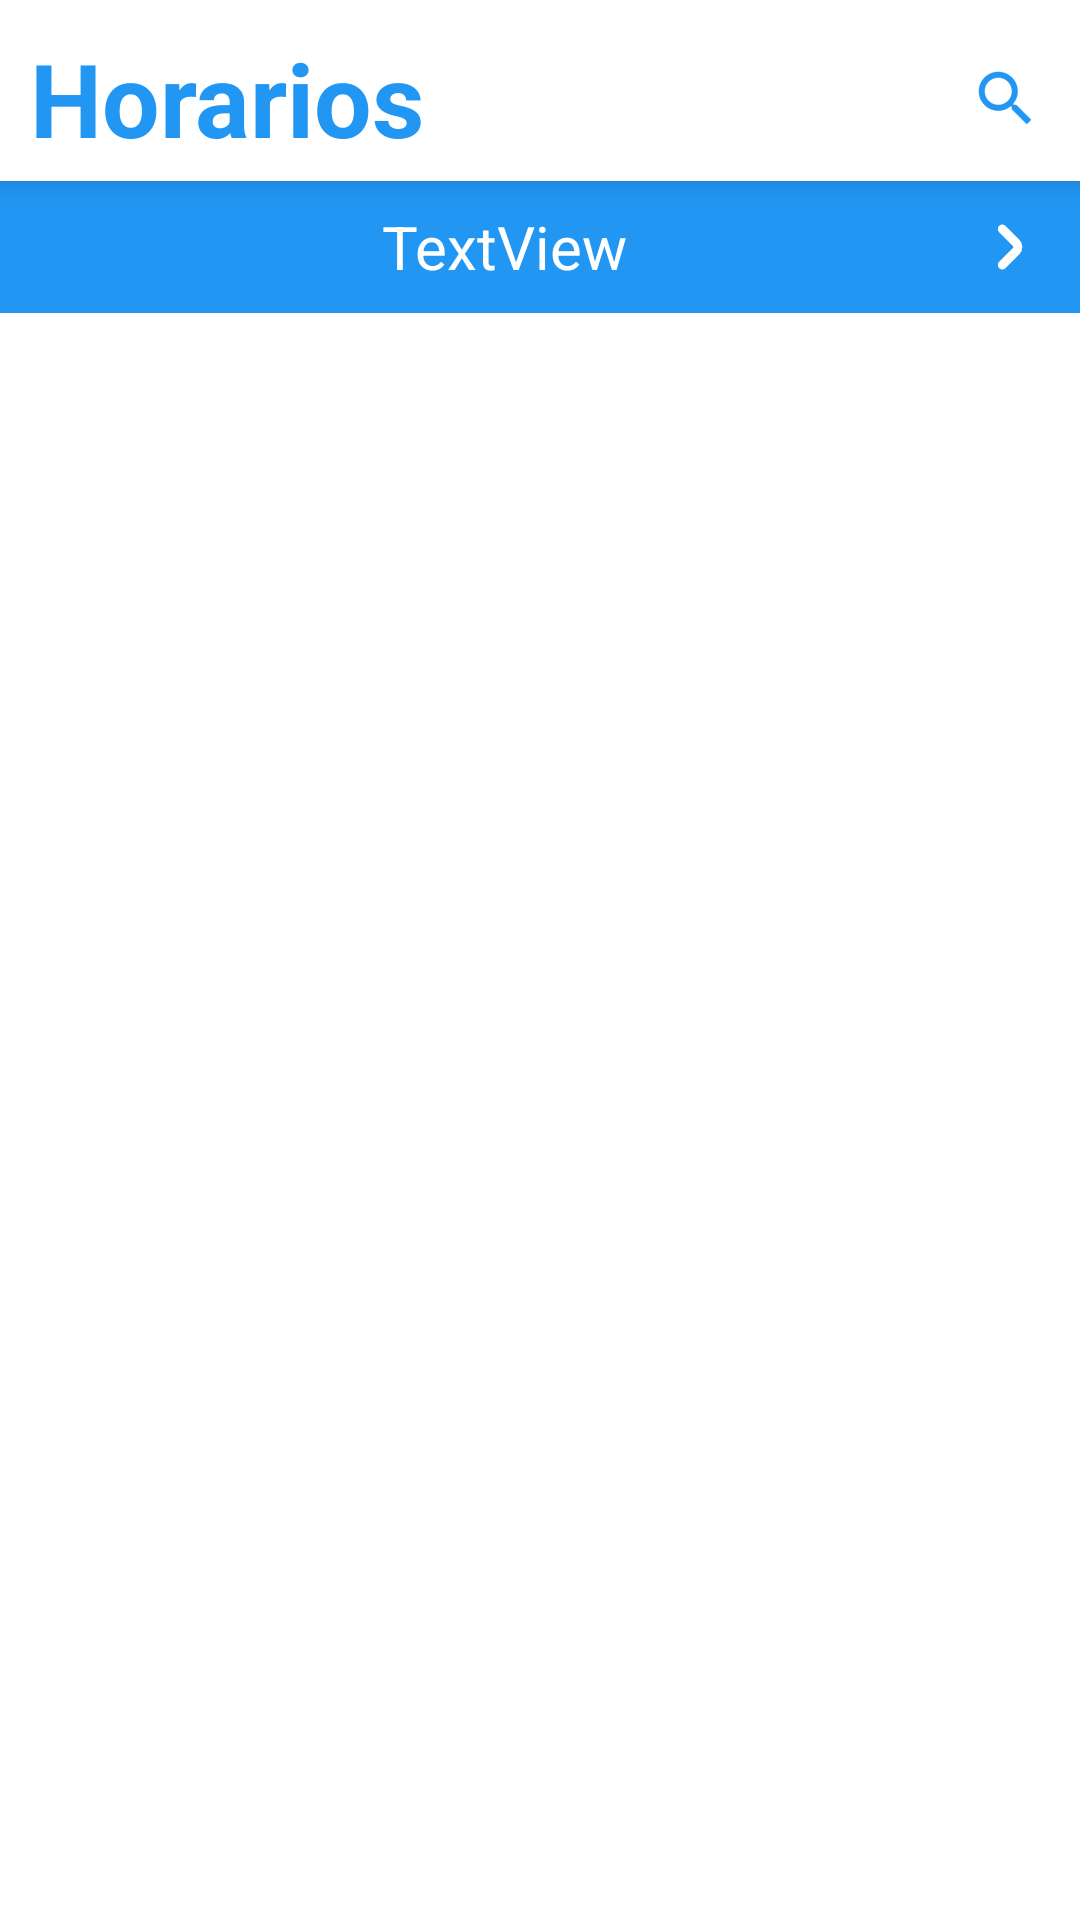

Point at icon controls on the screen. Image size 1080px x 1920px, points as point (x, y).
angulo pequeno derecho: point (1010, 247)
